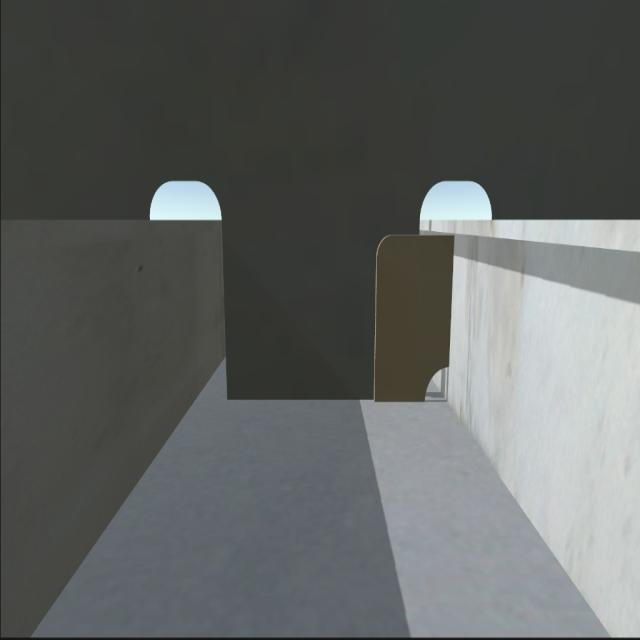fillet_hole: (419, 360, 453, 406)
fillet_yong_jeop_jang: (227, 390, 426, 411)
longi_yong_jeop_jang: (442, 230, 465, 369)
plate_CP05: (375, 229, 450, 400)
